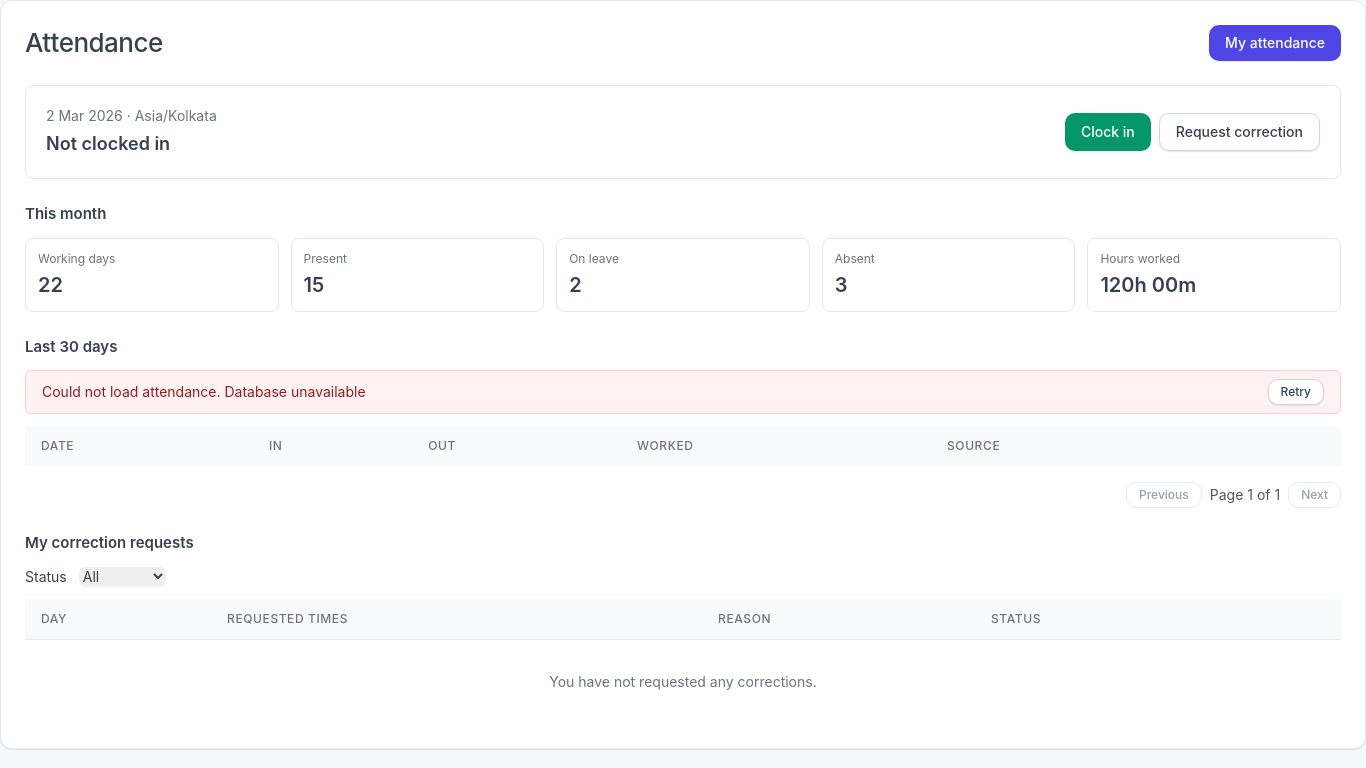
Attendance page › shows an empty history, and an error with retry
Expected: the text "Could not load attendance. Database unavailable" is shown, [42, 382, 366, 402]
Click the button "Retry" at (1296, 392), box [1268, 379, 1324, 405]
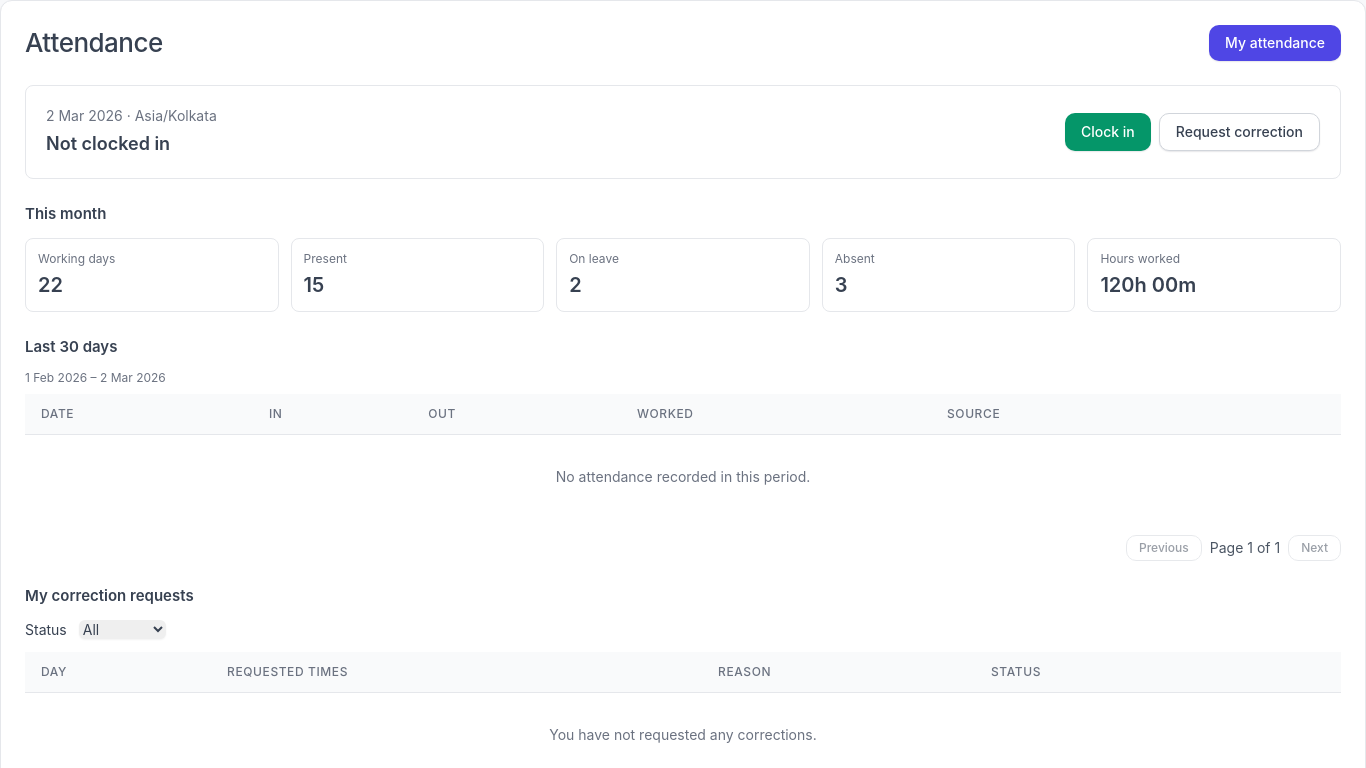
Expected: the text "No attendance recorded in this period." is shown, [25, 434, 1341, 519]
